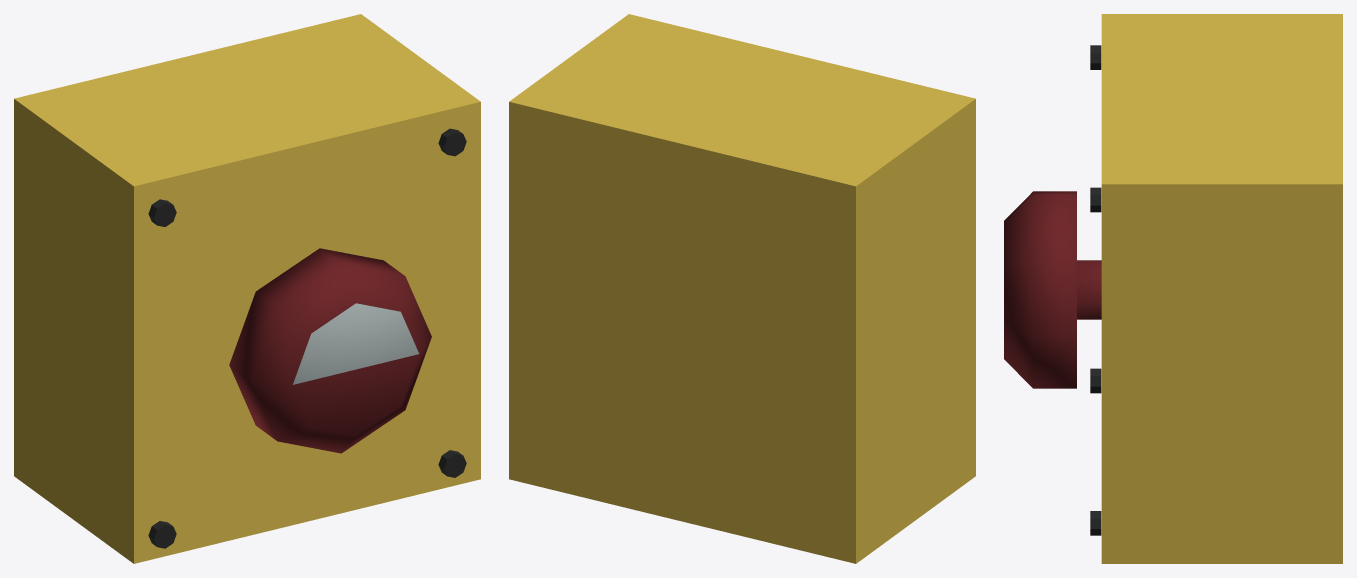
The model's file is CutOffSwitch.fbx.
3 renders of one model, left to right at view 1: azimuth 30°, elevation 25°; view 2: azimuth 150°, elevation 25°; view 3: azimuth 270°, elevation 25°, orthographic.
Parts seen in each view (by area): view 1: CutOffSwitch; view 2: CutOffSwitch; view 3: CutOffSwitch.
Boxes of the visible parts, x1,y1,x2,y2 form: CutOffSwitch: (14,14,480,563); CutOffSwitch: (509,14,975,563); CutOffSwitch: (1004,14,1342,563).
Size of the model in its own units: 0.1547 by 0.1608 by 0.1301.
